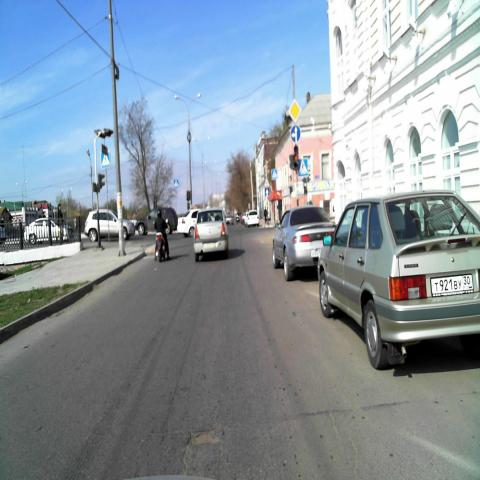4_1_5: (290, 124, 301, 143)
